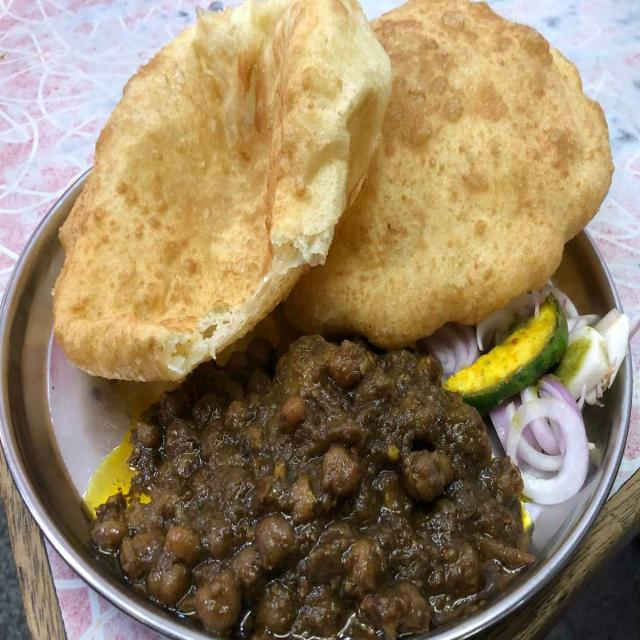Bhatura: (54, 2, 394, 384), (286, 0, 611, 345)
